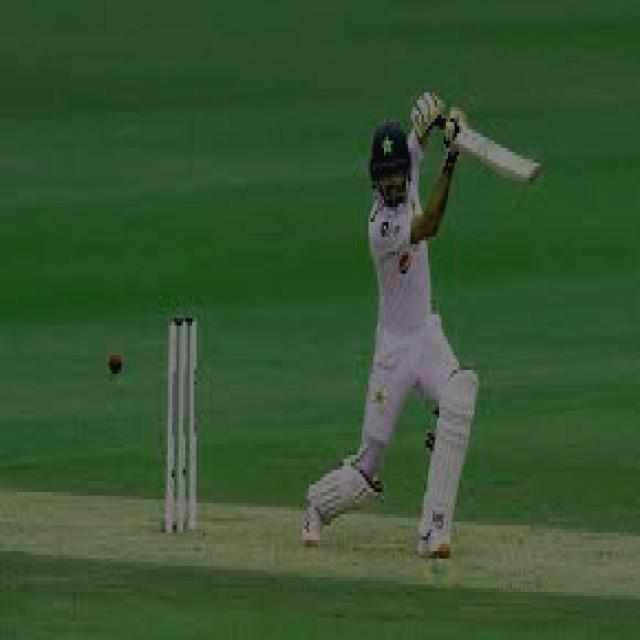bat: (441, 119, 543, 192)
toe: (521, 163, 540, 187)
